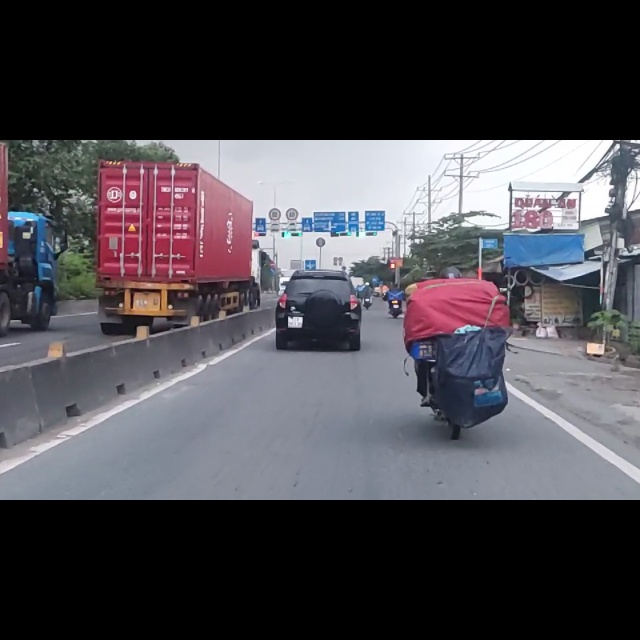bien_cam: (285, 119, 299, 145), (269, 121, 281, 143)
